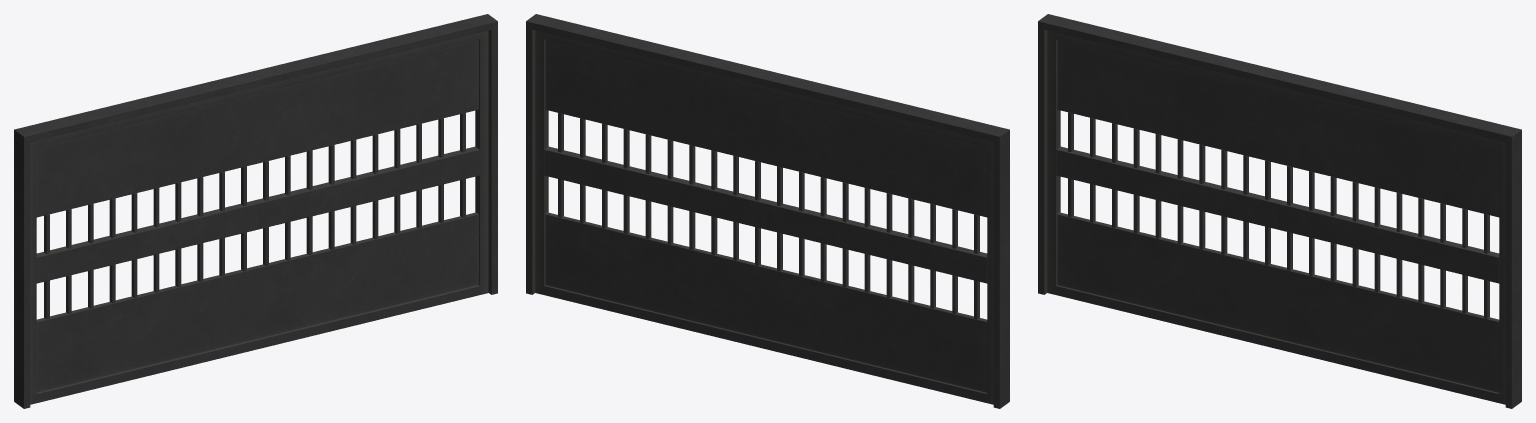
File: gar_modern.glb
3 renders of one model, left to right at view 1: azimuth 30°, elevation 25°; view 2: azimuth 150°, elevation 25°; view 3: azimuth 330°, elevation 25°, orthographic.
Visible parts, largest first — view 1: height_model, QBlock; view 2: height_model, QBlock; view 3: height_model, QBlock.
Part boxes in pixels (x1,y1,x2,y2): height_model: (30, 30, 488, 404); QBlock: (14, 14, 497, 408); height_model: (535, 30, 993, 404); QBlock: (526, 14, 1009, 408); height_model: (1047, 30, 1505, 404); QBlock: (1038, 14, 1521, 408).
Size of the model in its own units: 411 by 226 by 15.
2 materials, 2 textured.
